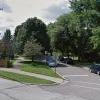Tree: (17, 10, 77, 57)
